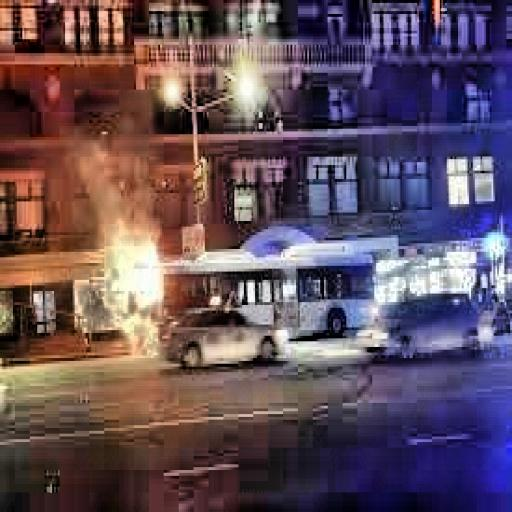fire: (78, 176, 171, 364)
